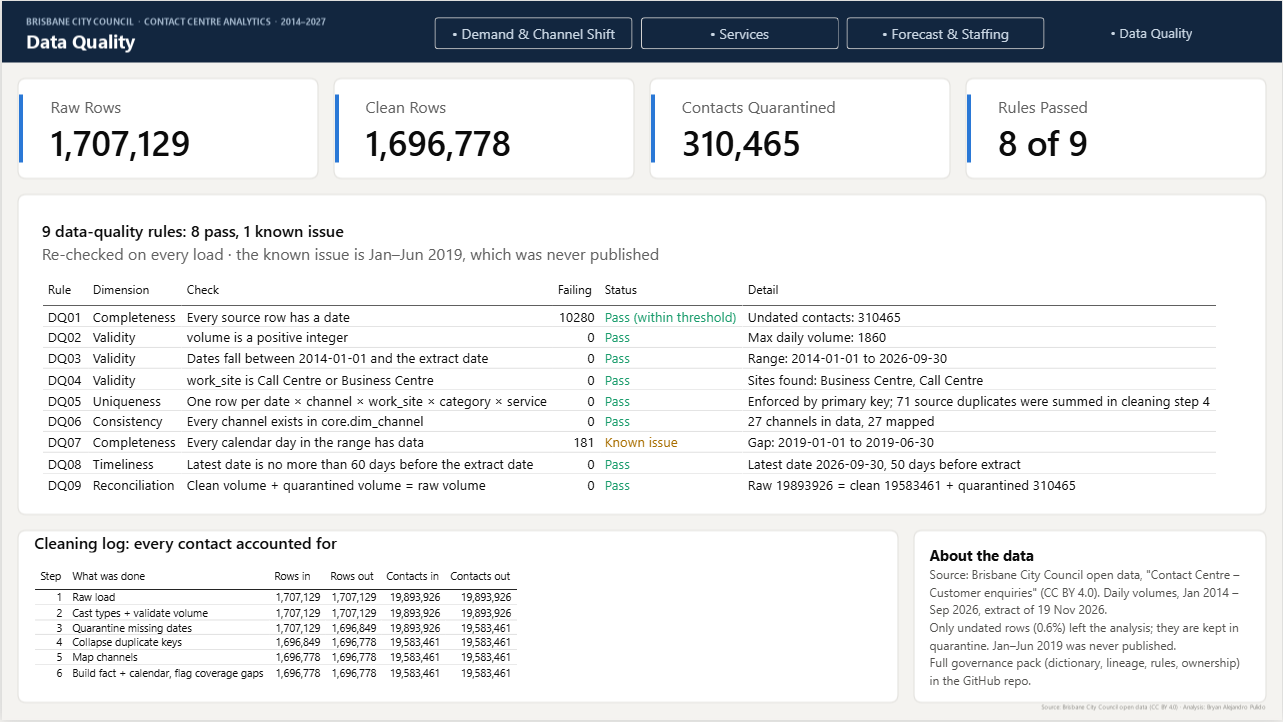

Layout of this report page (visuals, bound fields, positions):
{"tool":"powerbi","page":{"name":"• Data Quality","canvas":[1280,720],"ordinal":3},"visuals":[{"type":"cardVisual","fields":{"Data":["_Measures.Clean Rows"]},"box":[348,88,276,84],"z":0},{"type":"cardVisual","fields":{"Data":["_Measures.Contacts Quarantined"]},"box":[664,88,276,84],"z":1},{"type":"cardVisual","fields":{"Data":["_Measures.Raw Rows"]},"box":[32,88,276,84],"z":2},{"type":"cardVisual","fields":{"Data":["_Measures.Rules Passed"]},"box":[980,88,276,84],"z":3},{"type":"tableEx","title":"9 data-quality rules: 8 pass, 1 known issue","fields":{"Values":["bi data_quality.rule_id","bi data_quality.dimension","bi data_quality.rule","bi data_quality.failing","bi data_quality.status","bi data_quality.detail"]},"box":[24,204,1232,304],"z":4},{"type":"tableEx","title":"Cleaning log: every contact accounted for","fields":{"Values":["bi cleaning_log.step","bi cleaning_log.step_name","bi cleaning_log.rows_in","bi cleaning_log.rows_out","bi cleaning_log.volume_in","bi cleaning_log.volume_out"]},"box":[16,528,864,176],"z":5},{"type":"textbox","box":[928,544,320,148],"z":6},{"type":"pageNavigator","box":[432,16,816,32],"z":8}]}

Visuals, with their boxes in screenshot pixels (x1, y1, x2, y2), scaled from the page's 1280x720 canvas onto the 1283x722 screenshot:
cardVisual - _Measures.Clean Rows: BBox(349, 88, 625, 172)
cardVisual - _Measures.Contacts Quarantined: BBox(666, 88, 942, 172)
cardVisual - _Measures.Raw Rows: BBox(32, 88, 309, 172)
cardVisual - _Measures.Rules Passed: BBox(982, 88, 1259, 172)
"9 data-quality rules: 8 pass, 1 known issue" tableEx: BBox(24, 205, 1259, 509)
"Cleaning log: every contact accounted for" tableEx: BBox(16, 529, 882, 706)
textbox: BBox(930, 546, 1251, 694)
pageNavigator: BBox(433, 16, 1251, 48)
